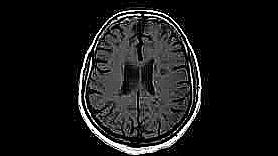Normal_Brain: (61, 1, 213, 149)
